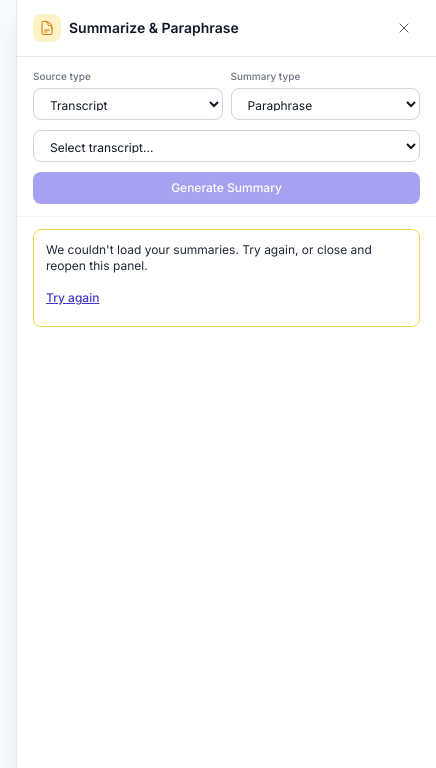
Test case: onboarding panel recovery › distinguishes failed summary loading from an empty list and retries saved data
This screenshot has width=436, height=768.
Expected: the message shows "We couldn't load your summaries", [46,242,372,273]
Step 1. Click the button "Try again" → {"x": 73, "y": 298}, box [46,282,99,314]
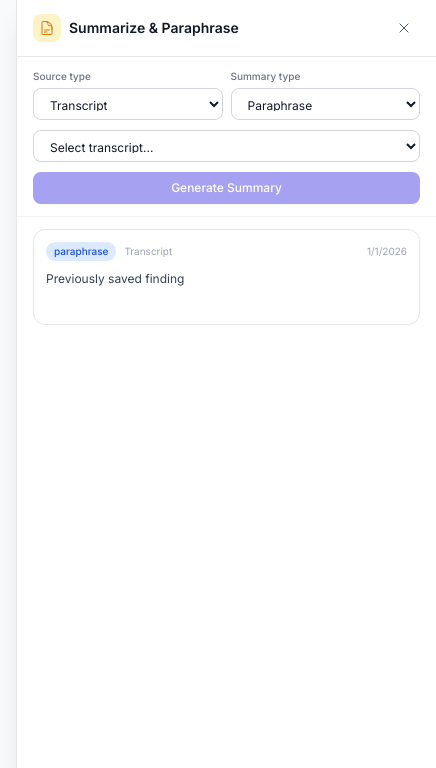
Result: the text "Previously saved finding" is shown at [46,271,184,286]
